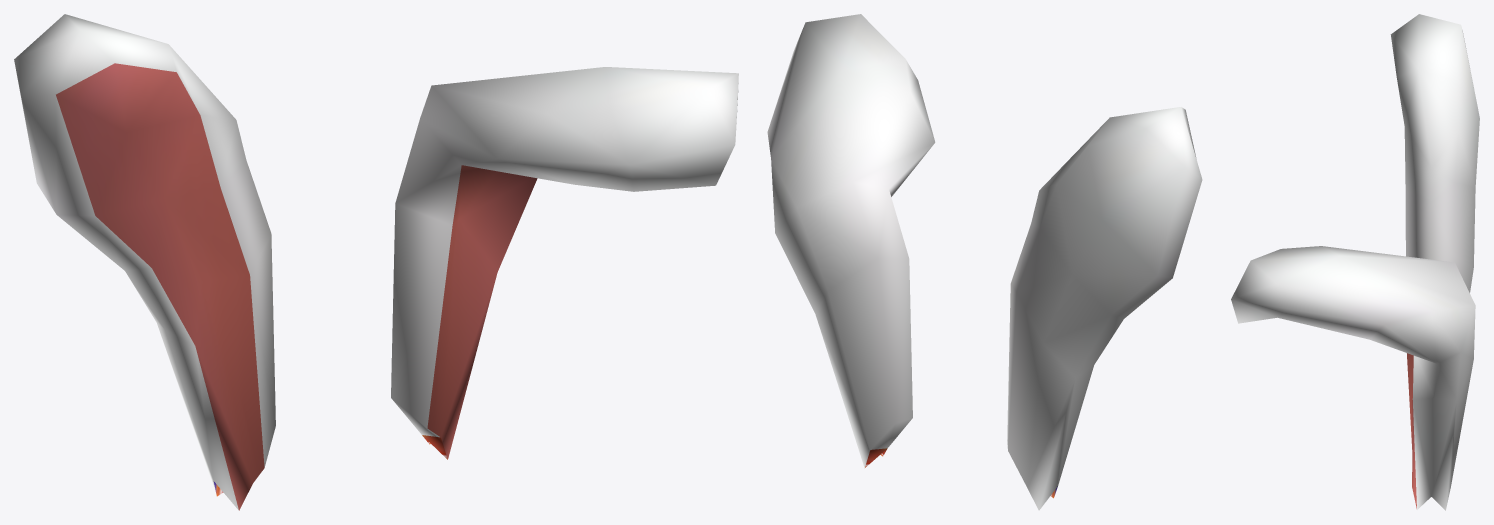
File: AF_M_Tiara_03.FBX
The picture shows the model from 3 angles, left to right: view 1: azimuth 30°, elevation 25°; view 2: azimuth 150°, elevation 25°; view 3: azimuth 270°, elevation 25°; orthographic projection. The views are drawn at different scales.
Visible parts, largest first — view 1: AF_M_Tiara_03; view 2: AF_M_Tiara_03; view 3: AF_M_Tiara_03.
Boxes of the visible parts, bbox=[...] form: AF_M_Tiara_03: bbox=[14, 14, 738, 510]; AF_M_Tiara_03: bbox=[767, 14, 1202, 510]; AF_M_Tiara_03: bbox=[1231, 14, 1479, 510].
Size of the model in its own units: 651 by 530 by 324.
